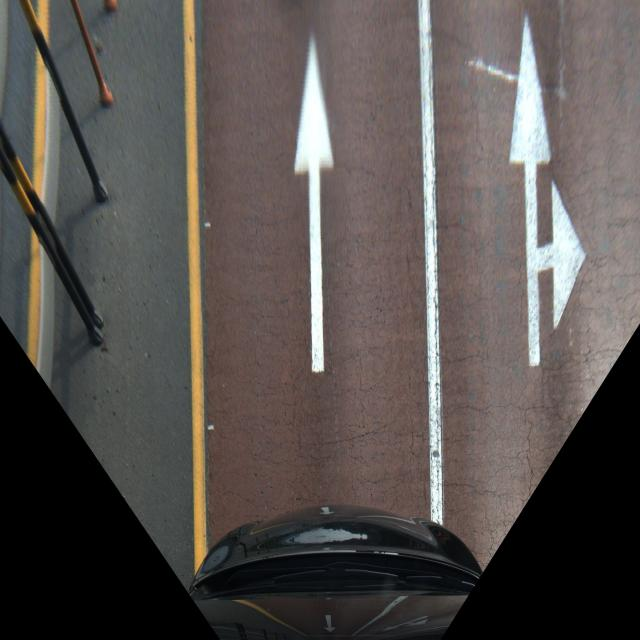forward: (190, 32, 440, 378)
forward_right: (412, 0, 639, 377)
